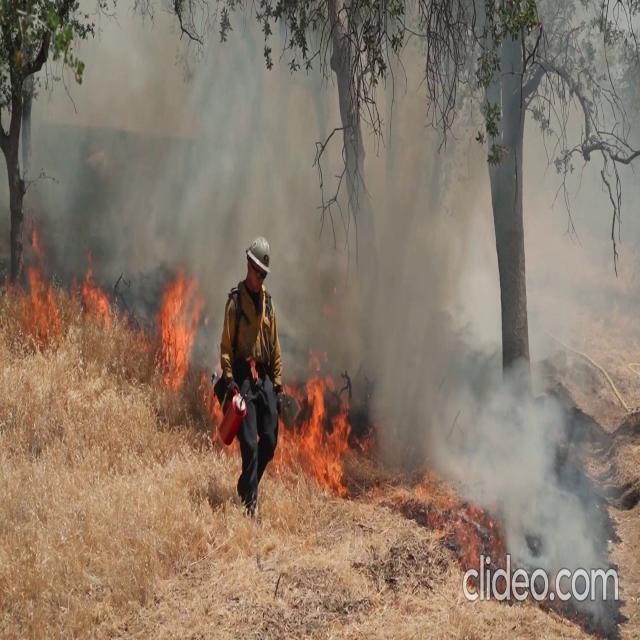Fire: (278, 366, 366, 494), (0, 250, 116, 336), (153, 273, 209, 392)
Smoke: (16, 14, 506, 340), (388, 228, 612, 590)
